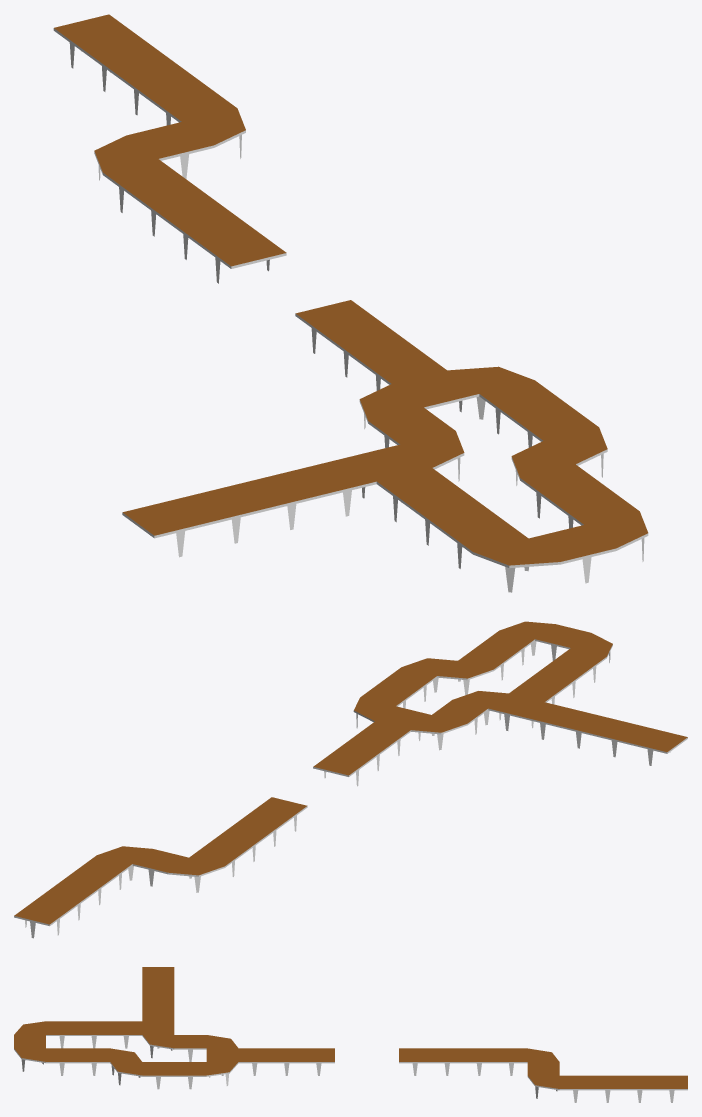
File: DockACombinedA.fbx
3 renders of one model, top to bottom at view 1: azimuth 30°, elevation 25°; view 2: azimuth 150°, elevation 25°; view 3: azimuth 270°, elevation 25°, orthographic. The views are drawn at different scales.
Visible parts, largest first — view 1: DockACombinedA; view 2: DockACombinedA; view 3: DockACombinedA.
Part boxes in pixels (x1,y1,x2,y2): DockACombinedA: (53,14,648,592); DockACombinedA: (14,621,687,938); DockACombinedA: (14,967,687,1102).
Size of what is drawn, in the model's own units: 4950 by 275 by 11550.
Materials: 1 (1 with a texture image).
